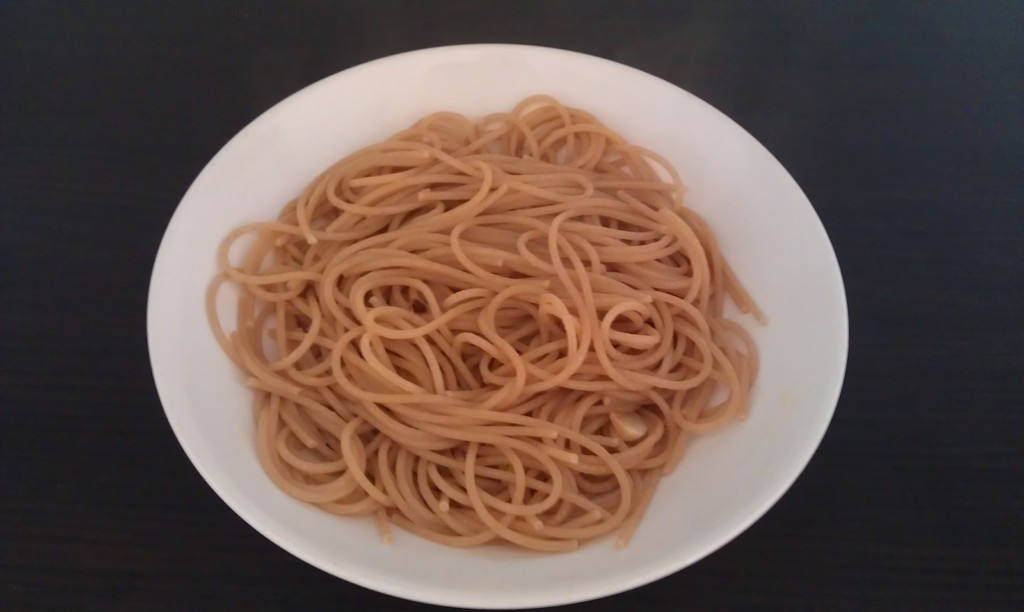pasta: (292, 90, 676, 551)
